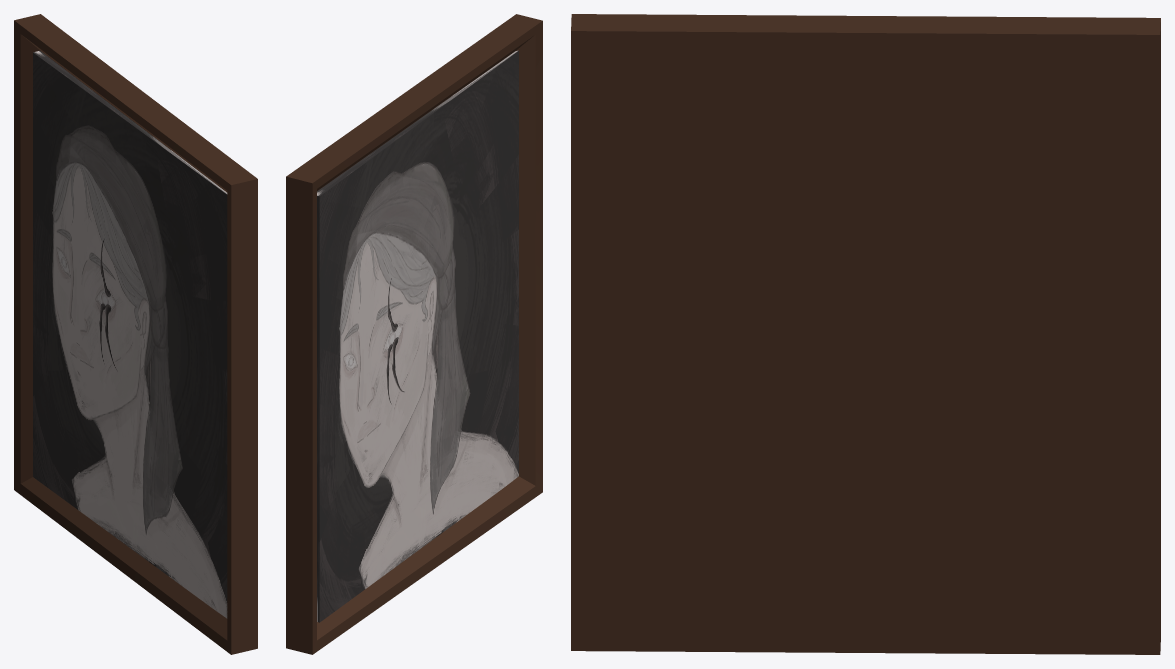
Rendered from painting.fbx.
3 renders of one model, left to right at view 1: azimuth 30°, elevation 25°; view 2: azimuth 150°, elevation 25°; view 3: azimuth 270°, elevation 25°, orthographic. The views are drawn at different scales.
Visible parts, largest first — view 1: painting_picture, Painting_frame; view 2: painting_picture, Painting_frame; view 3: Painting_frame.
Part boxes in pixels (bbox=[...]): painting_picture: bbox=[33, 50, 227, 618]; Painting_frame: bbox=[14, 14, 257, 654]; painting_picture: bbox=[317, 50, 518, 622]; Painting_frame: bbox=[286, 14, 542, 654]; Painting_frame: bbox=[571, 14, 1160, 654].
Bounding box in the file's own units: 0.0824 × 1.14 × 0.979.
